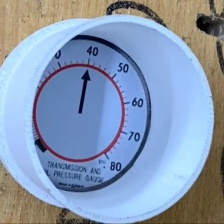gauge: (32, 35, 147, 192)
